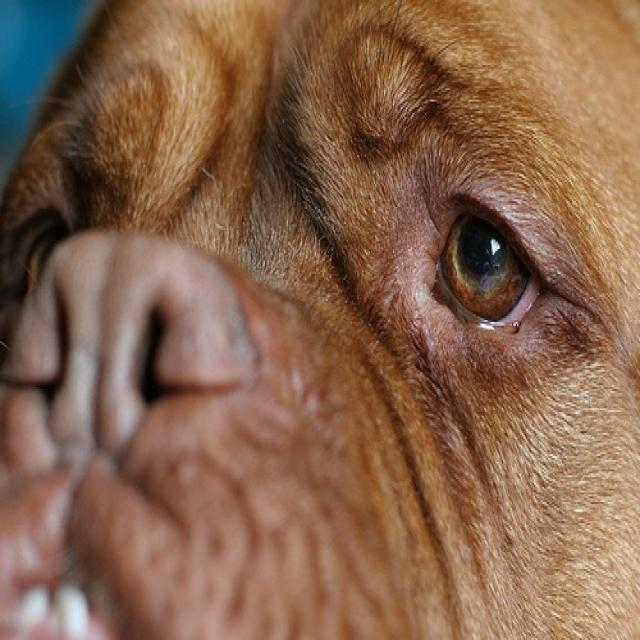dog: (1, 2, 639, 636)
